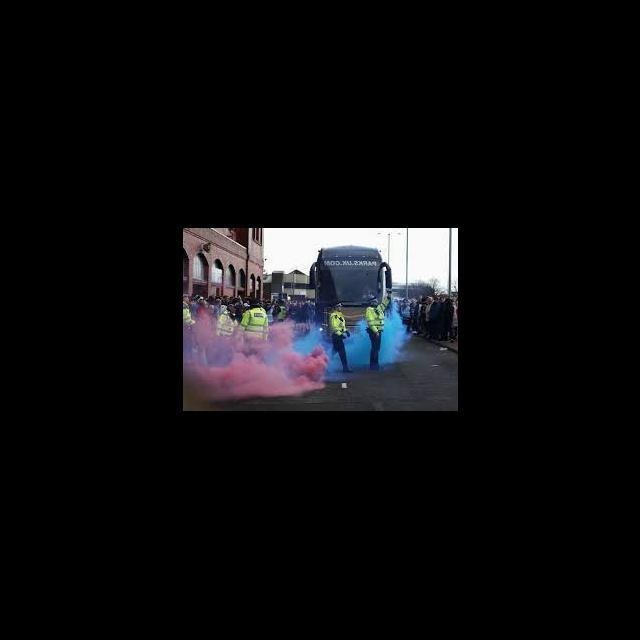Smoke: (184, 332, 314, 398), (294, 331, 338, 379), (384, 310, 406, 362), (350, 332, 366, 362)
